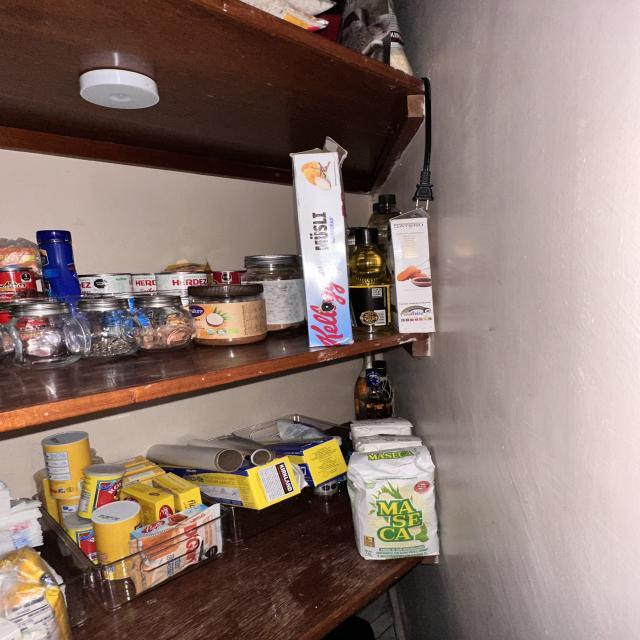hidden camera: (322, 303, 333, 312)
